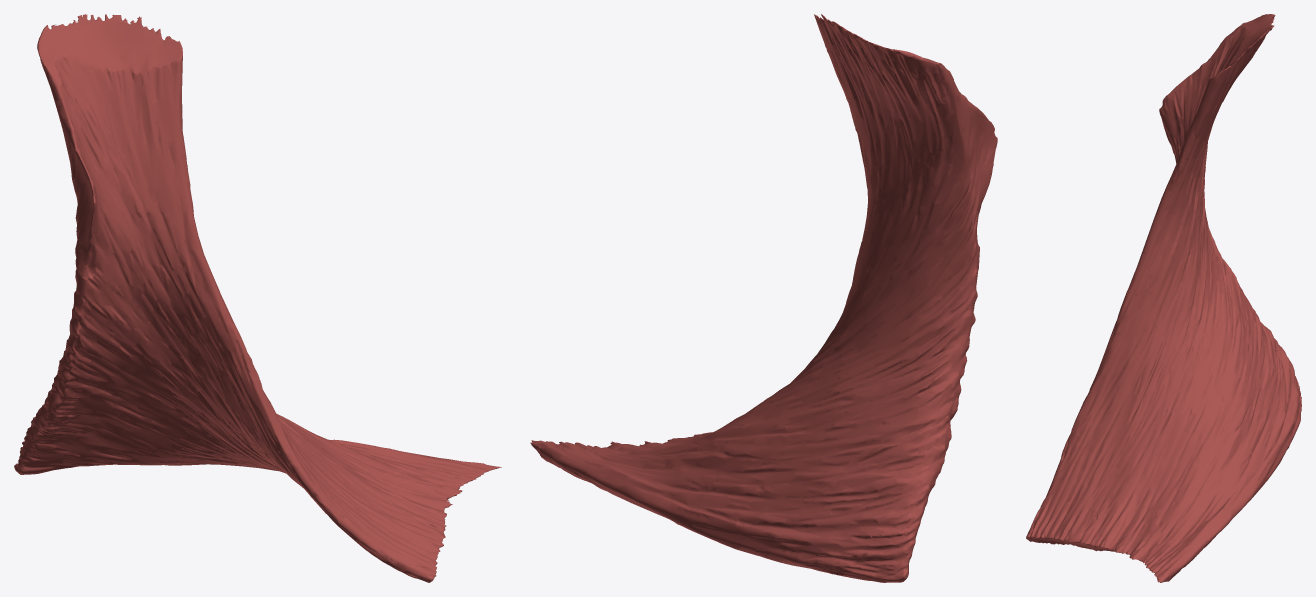
The model's file is FMA33587.glb.
The picture shows the model from 3 angles, left to right: view 1: azimuth 30°, elevation 25°; view 2: azimuth 150°, elevation 25°; view 3: azimuth 270°, elevation 25°; orthographic projection. The views are drawn at different scales.
Parts seen in each view (by area): view 1: FMA33587; view 2: FMA33587; view 3: FMA33587.
Part boxes in pixels (x1,y1,x2,y2): FMA33587: (14,14,501,582); FMA33587: (530,14,997,582); FMA33587: (1026,14,1301,582).
Bounding box in the file's own units: 0.1283 × 0.1542 × 0.0892.
